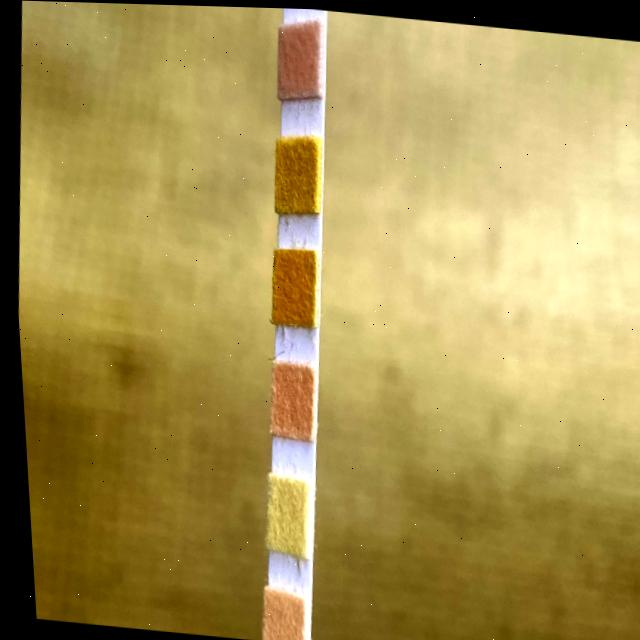Blood: (266, 247, 314, 323)
Ketone: (275, 28, 320, 91)
Protein: (258, 475, 302, 550)
SpGravity: (270, 136, 317, 208)
Urobilinogen: (254, 593, 297, 640)
pH: (264, 363, 311, 435)
